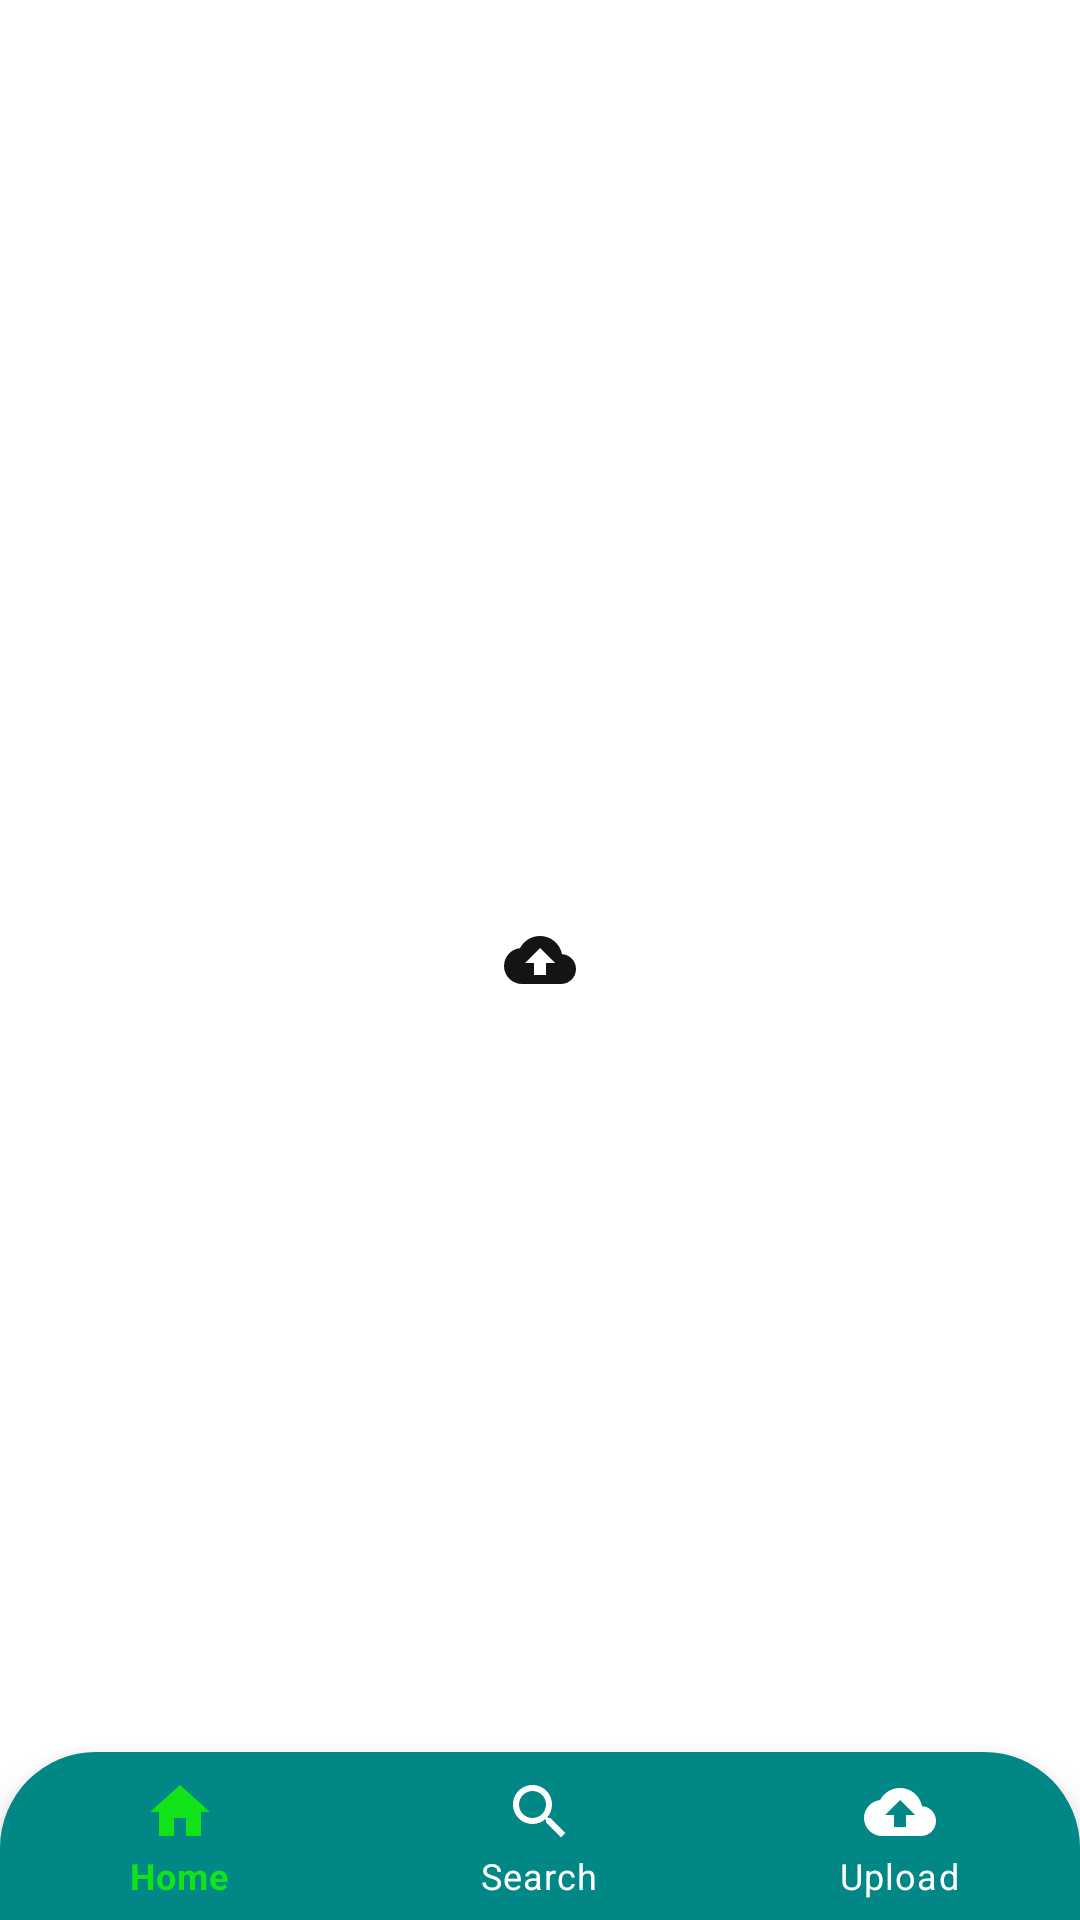

Named icons in this screenshot (1080*1920) and their centers, point (x, y):
cloud upload: point (540, 960)
